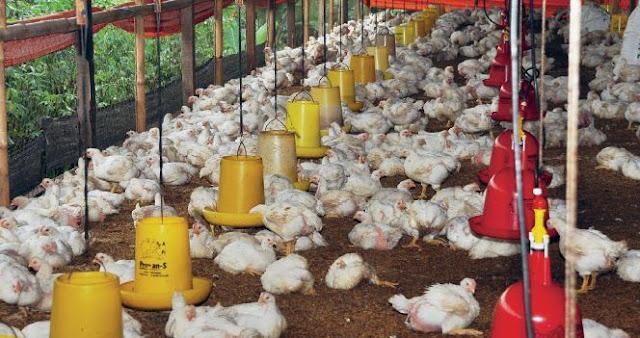chicken: (545, 216, 628, 294), (391, 276, 481, 332), (212, 291, 289, 336), (255, 204, 320, 252), (325, 251, 398, 287), (174, 303, 242, 338), (217, 236, 279, 274), (400, 147, 456, 188), (397, 198, 447, 241), (0, 250, 39, 303), (86, 147, 131, 192), (262, 254, 311, 293), (146, 155, 195, 184), (370, 179, 414, 211), (124, 176, 160, 204)
